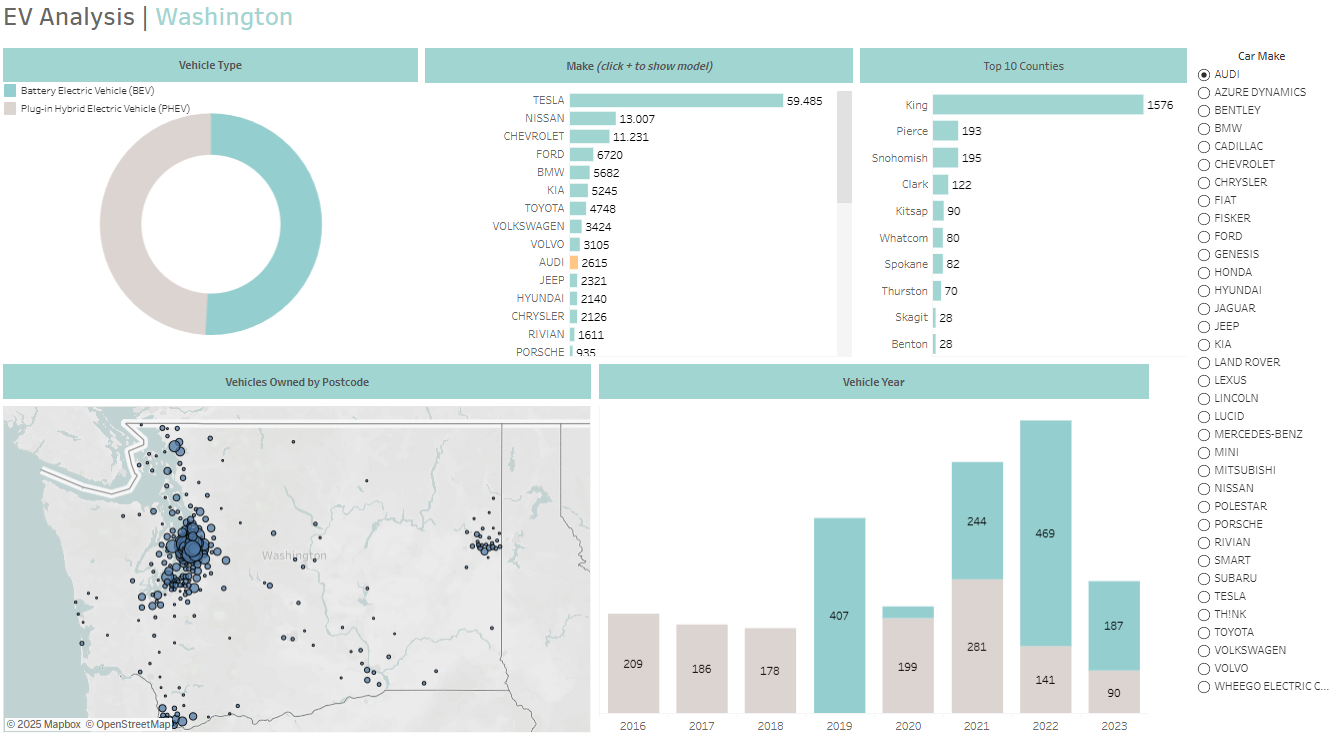

This screenshot's page, from the dashboard's own definition file:
{"tool":"tableau","page":{"name":"Dashboard 1","canvas":[1500,850],"ordinal":0},"visuals":[{"type":"text","box":[8,8,1484,64.6]},{"type":"text","box":[8,72.6,469.2,45]},{"type":"text","box":[477.2,72.6,484.2,47]},{"type":"text","box":[961.4,72.6,370.6,47]},{"type":"parameter","param":"[Parameters].[Parameter 1]","box":[1332,72.6,160,697]},{"type":"legend","title":"Vehicle Type Donut","param":"[federated.0cnst8j18ze4nb14q3u5z0crzqnp].[none:Electric Vehicle Type:nk]","box":[10,114,233,51]},{"type":"worksheet","title":"Make & Model","mark":"Automatic","rows":["Make"],"cols":["DOL Vehicle ID"],"box":[477.2,119.6,484.2,304.6]},{"type":"worksheet","title":"Top 10 Countries","mark":"Automatic","rows":["County"],"cols":["DOL Vehicle ID"],"box":[961.4,119.6,370.6,304.6]},{"type":"worksheet","title":"Vehicle Type Donut","mark":"Pie","rows":["Calculation_793196530721505282","Calculation_793196530721505282"],"box":[8,120,469.2,304.2]},{"type":"text","box":[8,424.2,661.9,47.1]},{"type":"text","box":[669.9,424.2,618.8,47.1]},{"type":"blank","box":[1288.6,424.2,43.4,417.8]},{"type":"worksheet","title":"Map","mark":"Automatic","box":[8,471.3,661.9,370.7]},{"type":"worksheet","title":"Year and Type","mark":"Bar","rows":["DOL Vehicle ID"],"cols":["Model Year"],"box":[669.9,471.3,618.8,370.7]}]}

Visuals, with their boxes in screenshot pixels (x1, y1, x2, y2), scaled from the page's 1500x850 canvas onto the 1342x739 screenshot:
text: [7, 7, 1335, 63]
text: [7, 63, 427, 102]
text: [427, 63, 860, 104]
text: [860, 63, 1192, 104]
parameter: [1192, 63, 1335, 669]
"Vehicle Type Donut" legend: [9, 99, 217, 143]
"Make & Model" worksheet: [427, 104, 860, 369]
"Top 10 Countries" worksheet: [860, 104, 1192, 369]
"Vehicle Type Donut" worksheet (Pie marks): [7, 104, 427, 369]
text: [7, 369, 599, 410]
text: [599, 369, 1153, 410]
blank: [1153, 369, 1192, 732]
"Map" worksheet: [7, 410, 599, 732]
"Year and Type" worksheet (Bar marks): [599, 410, 1153, 732]
